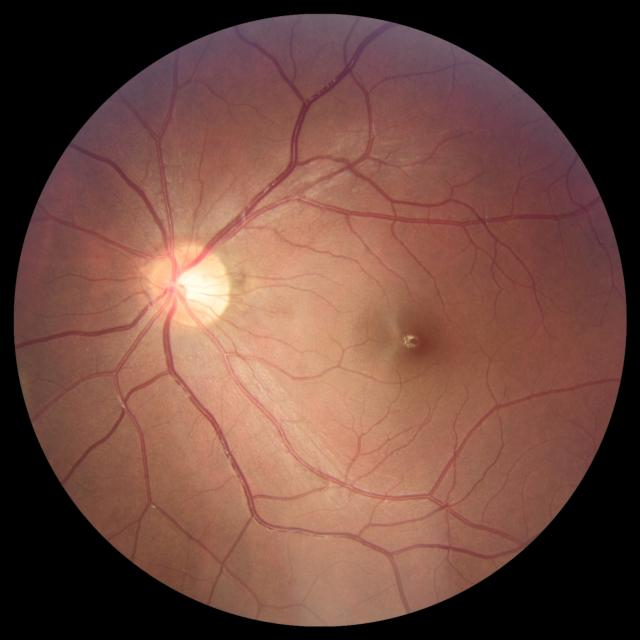OC: (173, 266, 208, 305)
OD: (148, 242, 232, 326)
